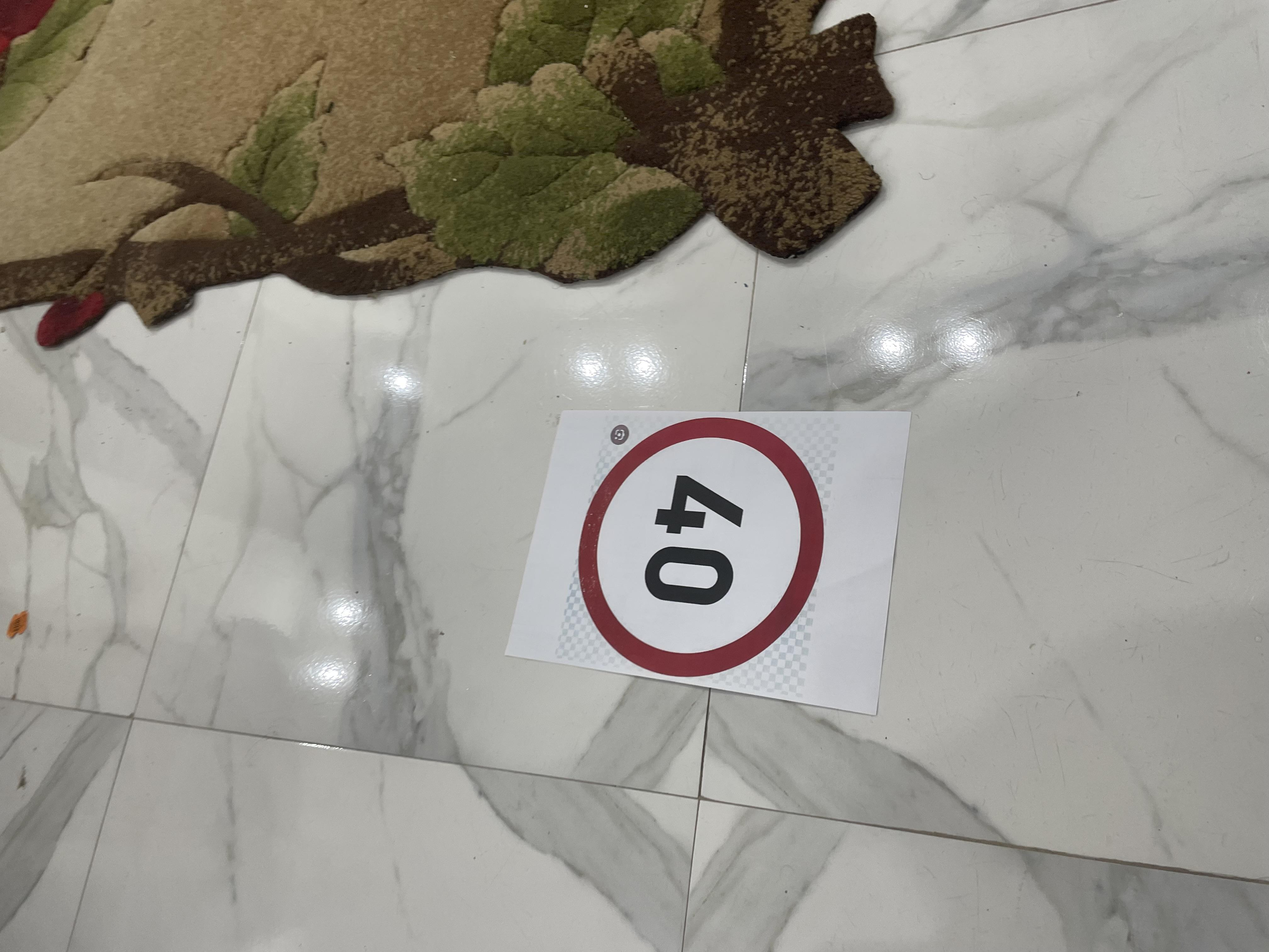40-Speed: (358, 431, 719, 620)
